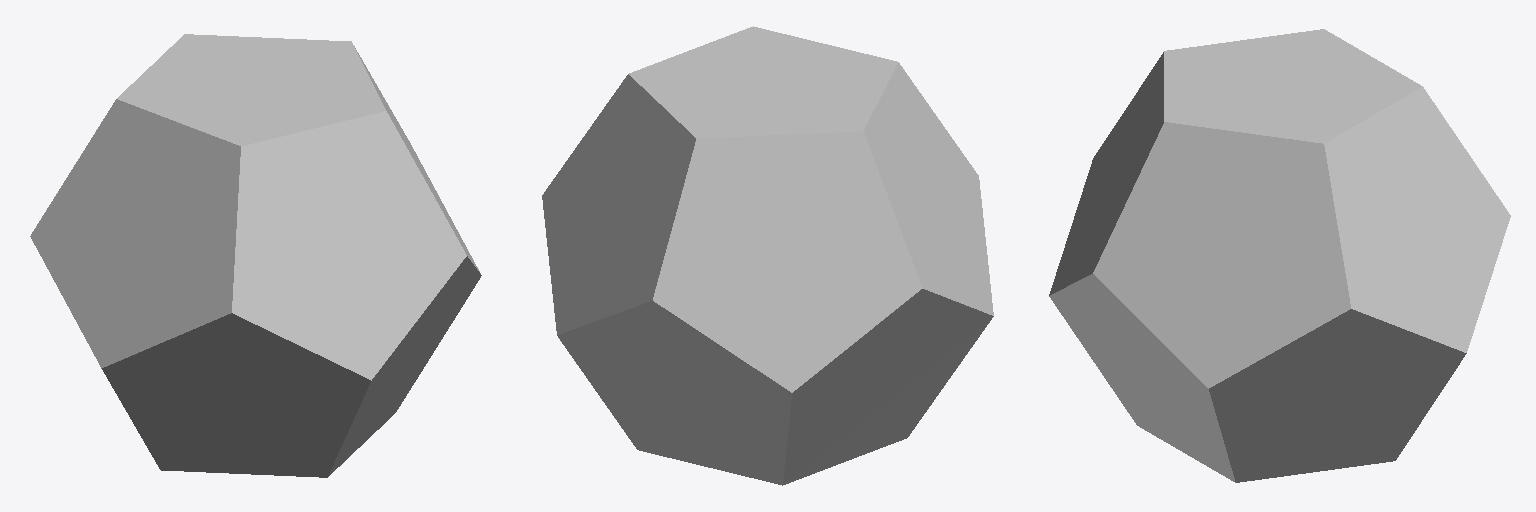
The model's file is Dodecahedron.obj.
3 views of the same model, side by side, from view 1: azimuth 30°, elevation 25°; view 2: azimuth 150°, elevation 25°; view 3: azimuth 270°, elevation 25° (orthographic).
Visible parts, largest first — view 1: dodecahedron_Cylinder.001; view 2: dodecahedron_Cylinder.001; view 3: dodecahedron_Cylinder.001.
Part boxes in pixels (x1,y1,x2,y2): dodecahedron_Cylinder.001: (30, 34, 481, 477); dodecahedron_Cylinder.001: (542, 26, 993, 485); dodecahedron_Cylinder.001: (1049, 29, 1510, 482).
Size of the model in its own units: 3.08 by 2.62 by 3.23.